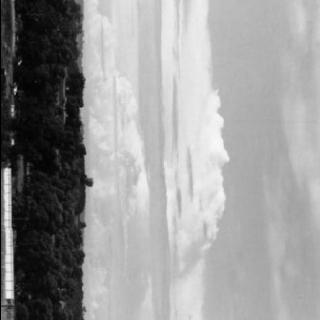Stratocumulus: (88, 0, 234, 320)
